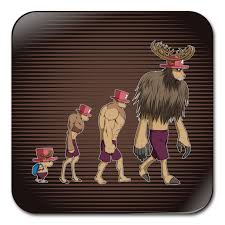chopper: (149, 39, 195, 83), (30, 147, 59, 169), (108, 89, 130, 108), (73, 103, 92, 122)
